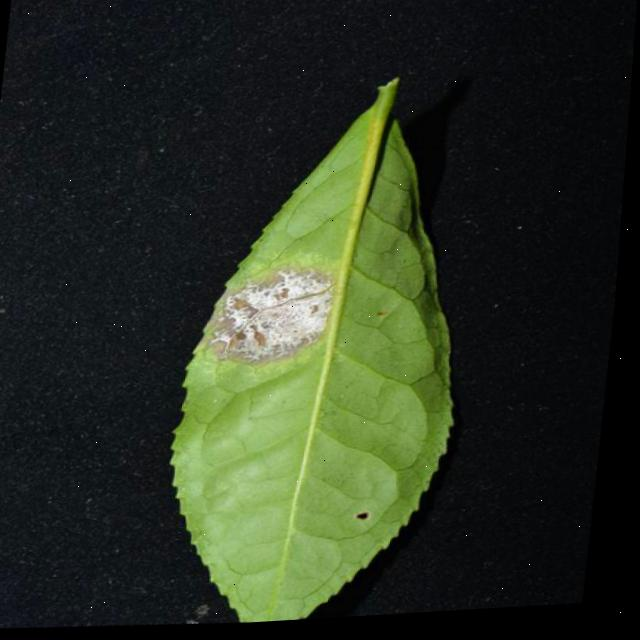Tea exobasidium blight: (205, 267, 349, 369)
